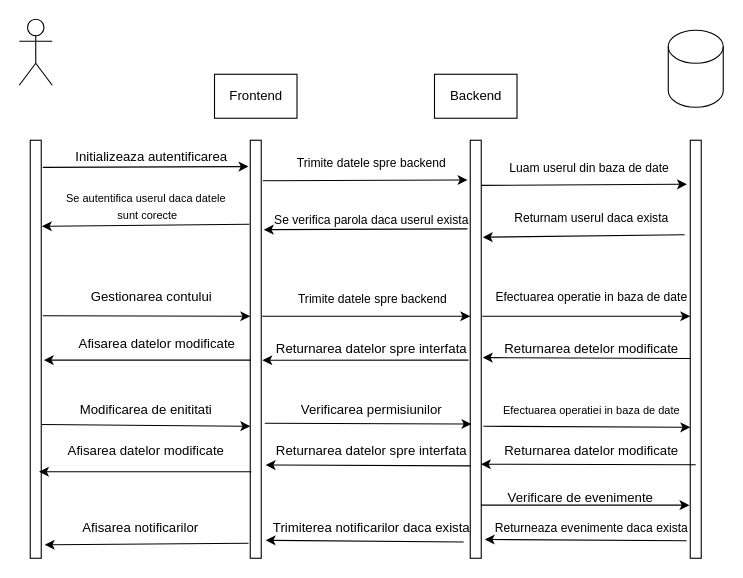
Image size: 743x578. Some labels were removed from this diagram. Here are the shapes that lost their labels. From the top down, the box of each, then its label:
(18, 18, 52, 85): User
(667, 29, 723, 107): Baza de date
